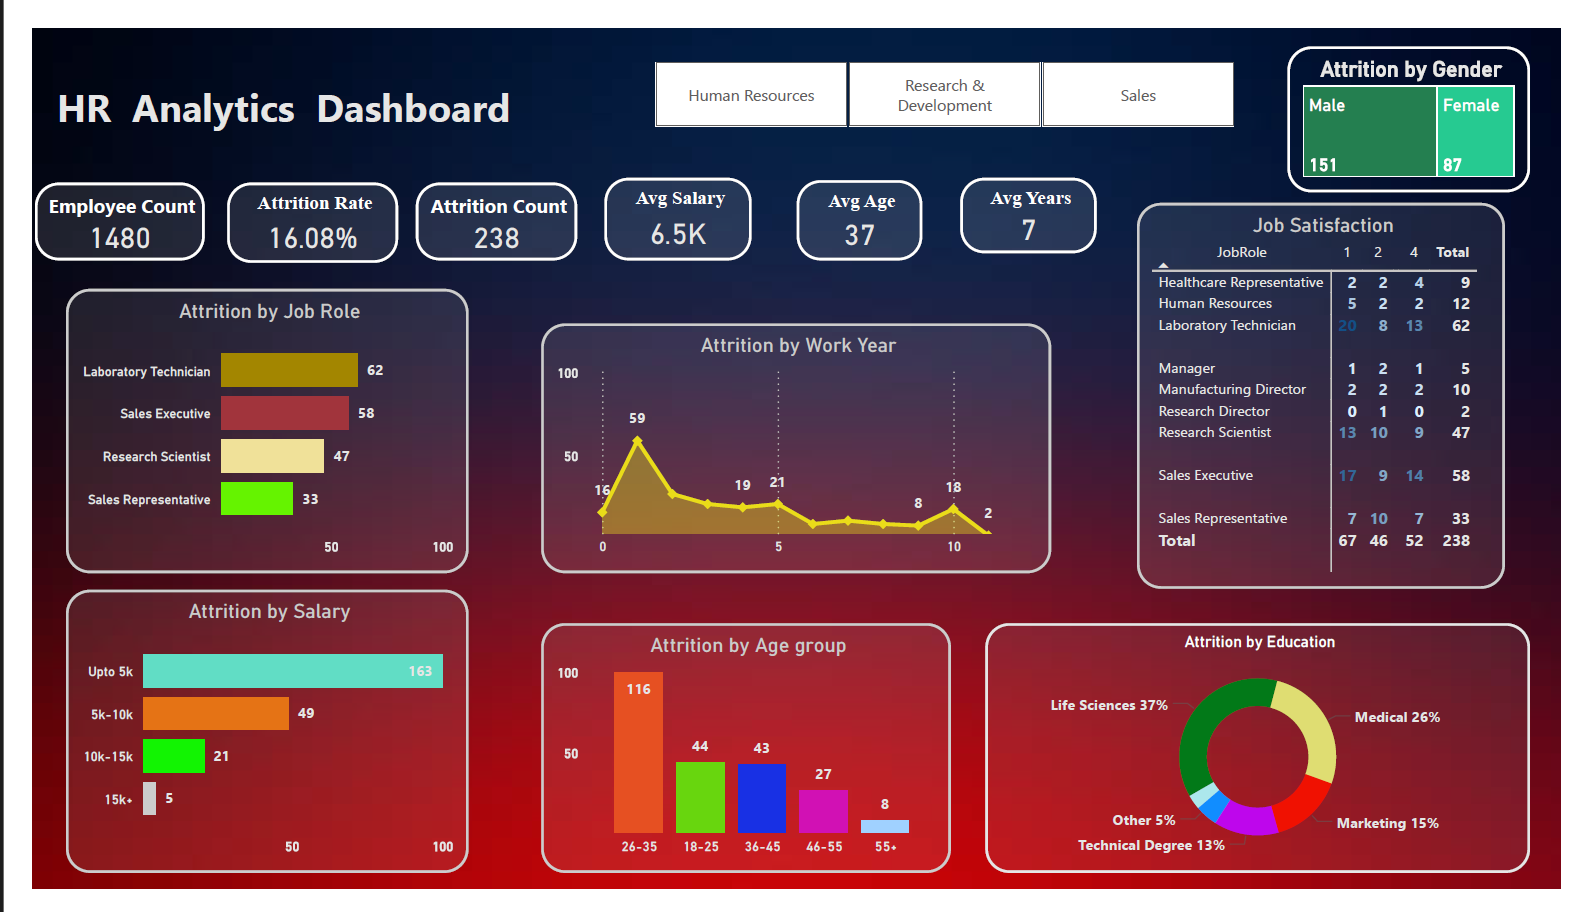

Layout of this report page (visuals, bound fields, positions):
{"tool":"powerbi","page":{"name":"Page 1","canvas":[1280,720],"ordinal":0},"visuals":[{"type":"card","title":"Attrition Count","fields":{"Values":["Sum(HR_Analytics.Count_Attrition)"]},"box":[321.1,129.2,134.9,64.6],"z":0},{"type":"card","title":"Avg Age","fields":{"Values":["Avg(HR_Analytics.Age)"]},"box":[640.2,127.3,104.5,66.5],"z":1000},{"type":"card","title":"Employee Count","fields":{"Values":["CountNonNull(HR_Analytics.EmployeeCount)"]},"box":[1.9,129.2,142.5,64.6],"z":2000},{"type":"card","title":"Attrition Rate","fields":{"Values":["HR_Analytics.Attrition_Rate"]},"box":[163.4,129.2,142.5,66.5],"z":3000},{"type":"card","title":"Avg Salary","fields":{"Values":["Avg(HR_Analytics.MonthlyIncome)"]},"box":[478.7,125.4,123.5,68.4],"z":4000},{"type":"card","title":"Avg Years ","fields":{"Values":["Avg(HR_Analytics.YearsAtCompany)"]},"box":[777,125.4,114,62.7],"z":5000},{"type":"treemap","title":"Attrition by Gender","fields":{"Group":["HR_Analytics.Gender"],"Values":["Sum(HR_Analytics.Count_Attrition)"]},"box":[1050.5,15.2,203.3,121.6],"z":6000},{"type":"donutChart","title":"Attrition by Education","fields":{"Category":["HR_Analytics.EducationField"],"Y":["Sum(HR_Analytics.Count_Attrition)"]},"box":[797.9,497.7,455.9,209],"z":7000},{"type":"pivotTable","title":"Job Satisfaction","fields":{"Values":["Sum(HR_Analytics.Count_Attrition)"],"Rows":["HR_Analytics.JobRole"],"Columns":["HR_Analytics.JobSatisfaction"]},"box":[925.2,146.3,307.8,323],"z":8000},{"type":"columnChart","title":"Attrition by Age group","fields":{"Y":["Sum(HR_Analytics.Count_Attrition)"],"Category":["HR_Analytics.AgeGroup"]},"box":[425.5,497.7,343.9,209],"z":9000},{"type":"barChart","title":"Attrition by Job Role","fields":{"Category":["HR_Analytics.JobRole"],"Y":["Sum(HR_Analytics.Count_Attrition)"]},"box":[28.5,218.5,336.3,237.5],"z":10000},{"type":"barChart","title":"Attrition by Salary","fields":{"Y":["Sum(HR_Analytics.Count_Attrition)"],"Category":["HR_Analytics.SalarySlab"]},"box":[28.5,469.9,337,237.3],"z":11000},{"type":"areaChart","title":"Attrition by Work Year","fields":{"Category":["HR_Analytics.YearsAtCompany"],"Y":["Sum(HR_Analytics.Count_Attrition)"]},"box":[425.5,247,427.4,209],"z":12000},{"type":"textbox","box":[15.2,38,440.7,74.1],"z":13000},{"type":"slicer","fields":{"Values":["HR_Analytics.Department"]},"box":[495.8,20.9,533.8,68.4],"z":14000}]}

Visuals, with their boxes in screenshot pixels (x1, y1, x2, y2), scaled from the page's 1280x720 canvas onto the 1587x912 screenshot:
"Attrition Count" card: (x1=398, y1=164, x2=565, y2=245)
"Avg Age" card: (x1=794, y1=161, x2=923, y2=245)
"Employee Count" card: (x1=2, y1=164, x2=179, y2=245)
"Attrition Rate" card: (x1=203, y1=164, x2=379, y2=248)
"Avg Salary" card: (x1=594, y1=159, x2=747, y2=245)
"Avg Years " card: (x1=963, y1=159, x2=1105, y2=238)
"Attrition by Gender" treemap: (x1=1302, y1=19, x2=1555, y2=173)
"Attrition by Education" donutChart: (x1=989, y1=630, x2=1555, y2=895)
"Job Satisfaction" pivotTable: (x1=1147, y1=185, x2=1529, y2=594)
"Attrition by Age group" columnChart: (x1=528, y1=630, x2=954, y2=895)
"Attrition by Job Role" barChart: (x1=35, y1=277, x2=452, y2=578)
"Attrition by Salary" barChart: (x1=35, y1=595, x2=453, y2=896)
"Attrition by Work Year" areaChart: (x1=528, y1=313, x2=1057, y2=578)
textbox: (x1=19, y1=48, x2=565, y2=142)
slicer - HR_Analytics.Department: (x1=615, y1=26, x2=1277, y2=113)
